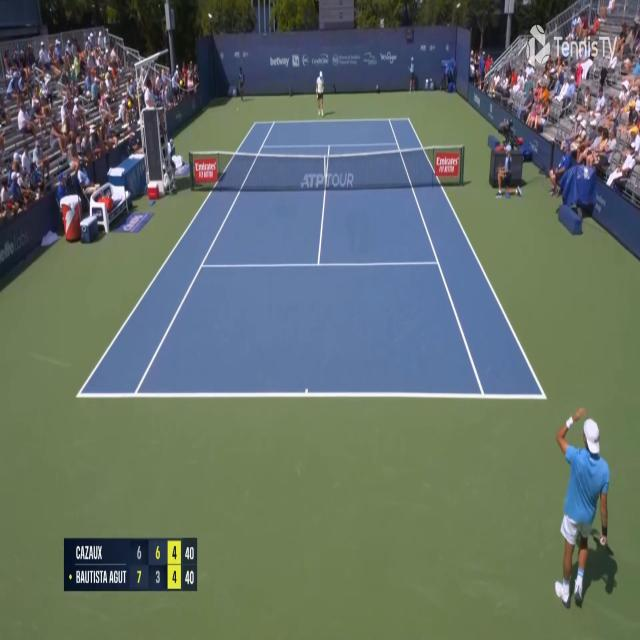tennis-player: (554, 406, 618, 613), (314, 69, 326, 118)
